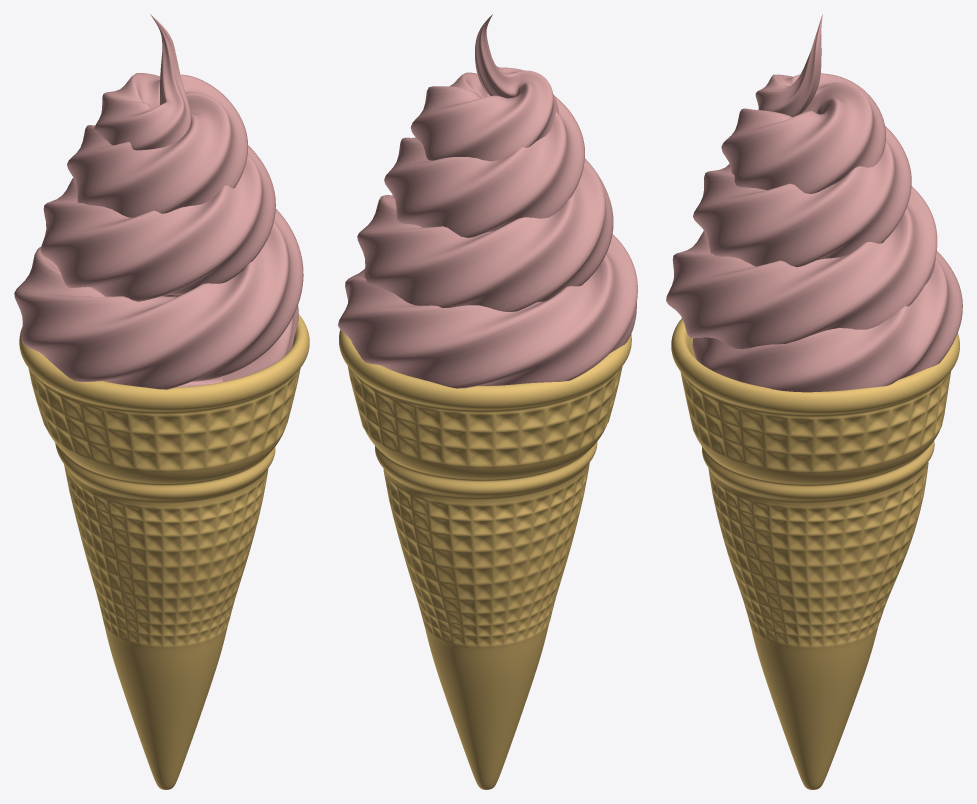
Rendered from ice_cream.glb.
3 views of the same model, side by side, from view 1: azimuth 30°, elevation 25°; view 2: azimuth 150°, elevation 25°; view 3: azimuth 270°, elevation 25° (orthographic).
Visible parts, largest first — view 1: Circle, Cylinder.068; view 2: Circle, Cylinder.068; view 3: Circle, Cylinder.068.
Boxes of the visible parts, x1=… form: Circle: x1=14, y1=14, x2=303, y2=389; Cylinder.068: x1=19, y1=314, x2=309, y2=789; Circle: x1=338, y1=14, x2=637, y2=388; Cylinder.068: x1=339, y1=330, x2=631, y2=789; Circle: x1=666, y1=14, x2=962, y2=392; Cylinder.068: x1=671, y1=318, x2=959, y2=789.
Size of the model in its own units: 0.7131 by 2.04 by 0.7151.
